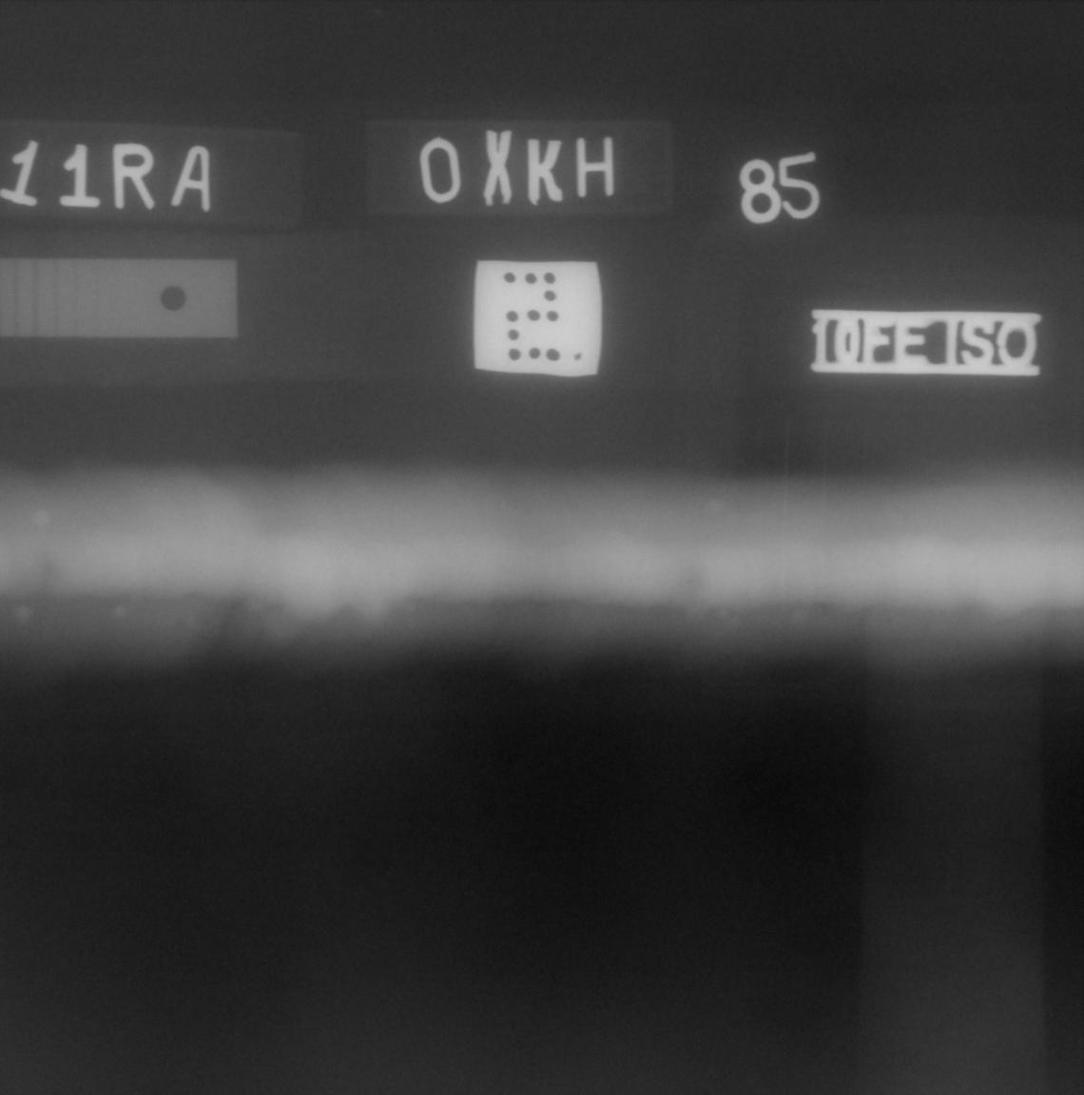Pore/Porosity: (686, 579, 691, 583)
